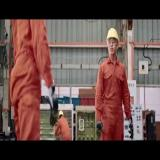Helmet: (106, 28, 120, 50), (58, 110, 64, 118)
